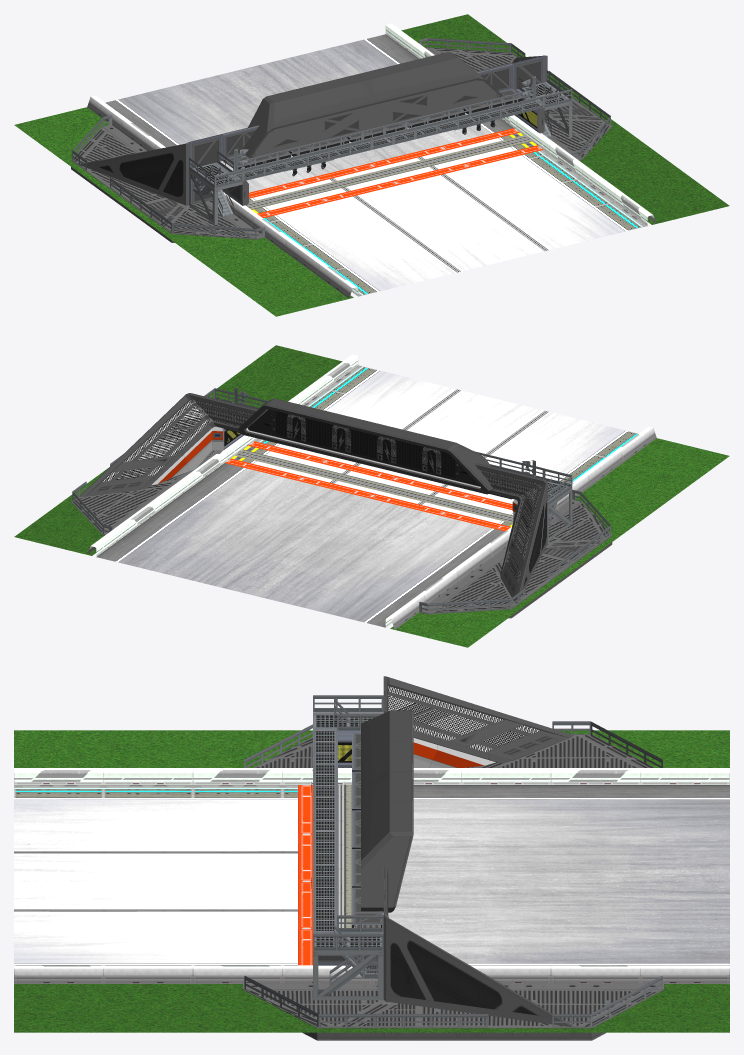
Rendered from T1 - Magnetic.fbx.
3 views of the same model, one above another, from view 1: azimuth 30°, elevation 25°; view 2: azimuth 150°, elevation 25°; view 3: azimuth 270°, elevation 25° (orthographic). The views are drawn at different scales.
Visible parts, largest first — view 1: straight_road2, gat_sta_magnetic_bridge, standard_ground_grass, wall_ground, magnetic_road_lines; view 2: straight_road2, gat_sta_magnetic_bridge, standard_ground_grass, wall_ground, magnetic_road_lines; view 3: straight_road2, gat_sta_magnetic_bridge, standard_ground_grass, wall_ground, magnetic_road_lines.
Boxes of the visible parts, x1,y1,x2,y2 form: straight_road2: [105, 34, 647, 296]; gat_sta_magnetic_bridge: [71, 38, 612, 242]; standard_ground_grass: [14, 14, 729, 316]; wall_ground: [87, 23, 656, 298]; magnetic_road_lines: [257, 141, 548, 272]; straight_road2: [96, 365, 638, 627]; gat_sta_magnetic_bridge: [71, 387, 612, 618]; standard_ground_grass: [14, 345, 729, 647]; wall_ground: [87, 354, 656, 629]; magnetic_road_lines: [257, 389, 548, 520]; straight_road2: [14, 784, 729, 965]; gat_sta_magnetic_bridge: [243, 676, 663, 1040]; standard_ground_grass: [14, 730, 729, 1032]; wall_ground: [14, 768, 729, 983]; magnetic_road_lines: [14, 799, 351, 927].
Size of the model in its own units: 6400 by 1206 by 6400.
